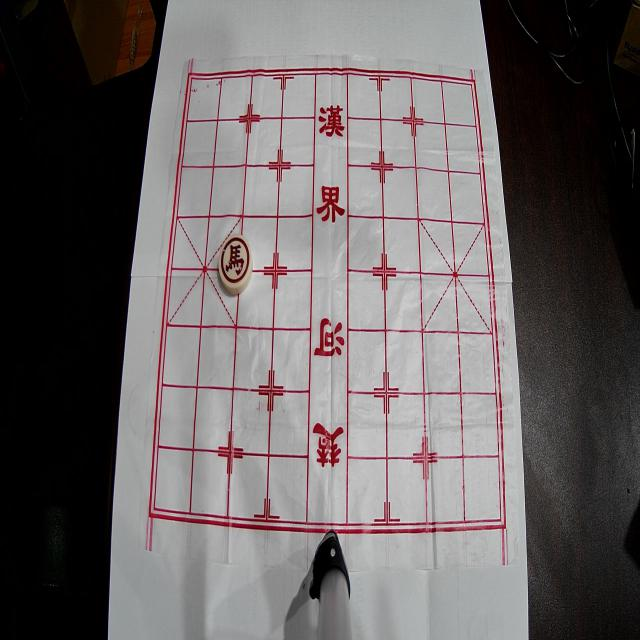red-horse: (218, 234, 252, 295)
